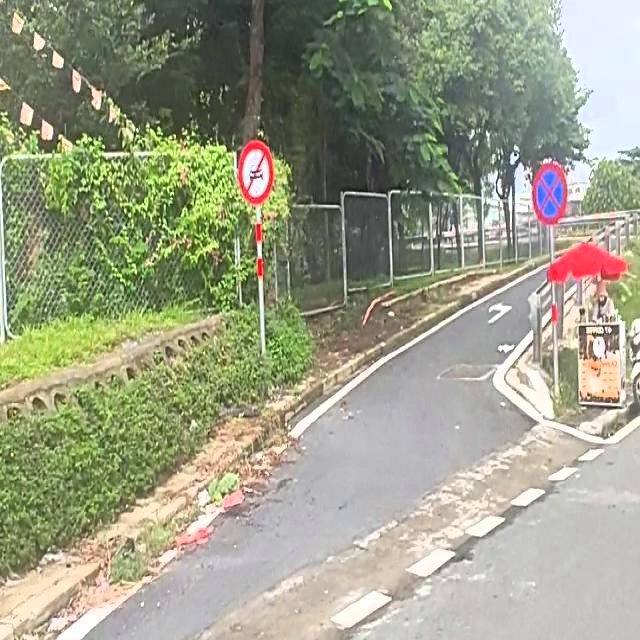P.103a: (237, 139, 273, 204)
P.130: (532, 162, 568, 230)
